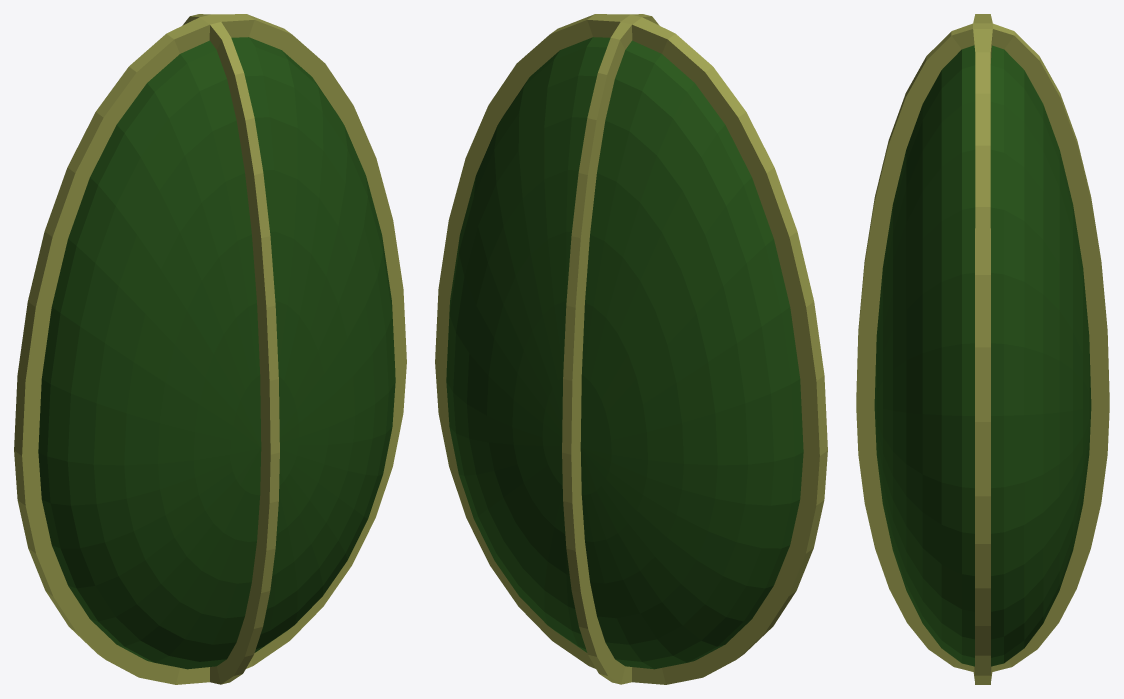
File: Collectible1.fbx
3 views of the same model, side by side, from view 1: azimuth 30°, elevation 25°; view 2: azimuth 150°, elevation 25°; view 3: azimuth 270°, elevation 25° (orthographic). The views are drawn at different scales.
Visible parts, largest first — view 1: Sphere.003; view 2: Sphere.003; view 3: Sphere.003.
Boxes of the visible parts, bbox=[...] form: Sphere.003: bbox=[14, 14, 406, 684]; Sphere.003: bbox=[435, 14, 827, 684]; Sphere.003: bbox=[856, 14, 1109, 684].
Size of the model in its own units: 276 by 451 by 161.
